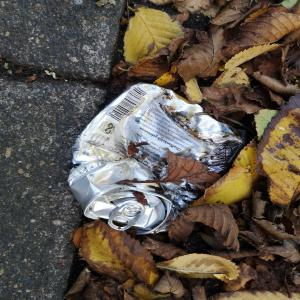Can: (65, 82, 252, 238)
